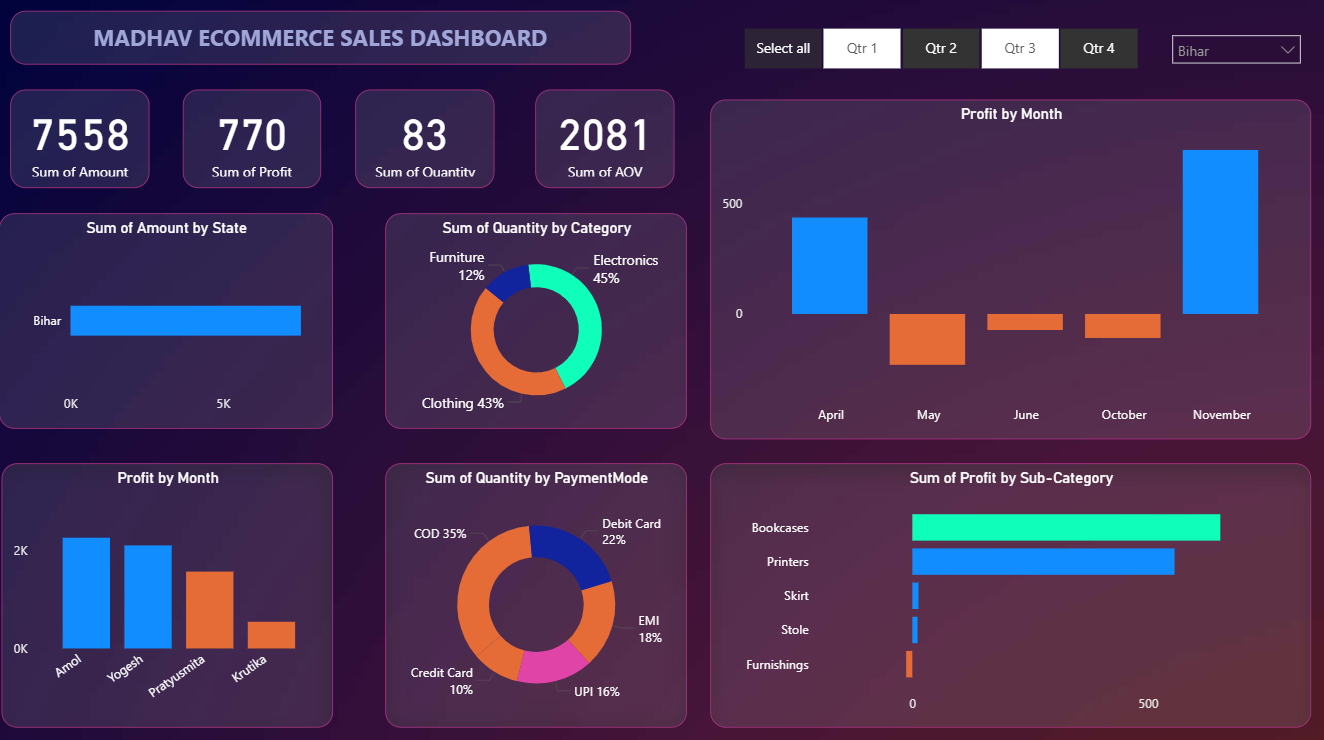

Layout of this report page (visuals, bound fields, positions):
{"tool":"powerbi","page":{"name":"Page 1","canvas":[1280,720],"ordinal":0},"visuals":[{"type":"textbox","box":[11.1,13.3,598.9,52.2],"z":0},{"type":"columnChart","title":" Profit by Month","fields":{"Y":["Sum(Details.Profit)"],"Category":["Orders.Order Date.Variation.Date Hierarchy.Month"]},"box":[686.7,98.9,580,327.8],"z":1000},{"type":"barChart","fields":{"Category":["Details.Sub-Category"],"Y":["Sum(Details.Profit)"]},"box":[686.7,450,580,255.6],"z":2000},{"type":"donutChart","fields":{"Y":["Sum(Details.Quantity)"],"Category":["Details.PaymentMode"]},"box":[372.2,450,291.1,255.6],"z":3000},{"type":"donutChart","fields":{"Y":["Sum(Details.Quantity)"],"Category":["Details.Category"]},"box":[372.2,208.9,291.1,207.8],"z":4000},{"type":"barChart","fields":{"Category":["Orders.State"],"Y":["Sum(Details.Amount)"]},"box":[0,208.9,322.2,207.8],"z":5000},{"type":"columnChart","title":" Profit by Month","fields":{"Category":["Orders.CustomerName"],"Y":["Sum(Details.Amount)"]},"box":[2.2,450,320,255.6],"z":6000},{"type":"card","fields":{"Values":["Sum(Details.Amount)"]},"box":[11.1,88.9,134.4,95.6],"z":7000},{"type":"card","fields":{"Values":["Sum(Details.Profit)"]},"box":[177.8,88.9,133.3,95.6],"z":8000},{"type":"card","fields":{"Values":["Sum(Details.Quantity)"]},"box":[343.3,88.9,134.4,95.6],"z":9000},{"type":"card","fields":{"Values":["Sum(Details.AOV)"]},"box":[517.8,88.9,134.4,95.6],"z":10000},{"type":"slicer","fields":{"Values":["Orders.Order Date.Variation.Date Hierarchy.Quarter"]},"box":[694.4,24.4,427.8,51.1],"z":11000},{"type":"slicer","fields":{"Values":["Orders.State"]},"box":[1122.2,26.7,144.4,46.7],"z":12000}]}

Visuals, with their boxes in screenshot pixels (x1, y1, x2, y2), scaled from the page's 1280x720 canvas onto the 1324x740 screenshot:
textbox: x1=11, y1=14, x2=631, y2=67
" Profit by Month" columnChart: x1=710, y1=102, x2=1310, y2=439
barChart - Details.Sub-Category x Sum(Details.Profit): x1=710, y1=462, x2=1310, y2=725
donutChart - Sum(Details.Quantity) x Details.PaymentMode: x1=385, y1=462, x2=686, y2=725
donutChart - Sum(Details.Quantity) x Details.Category: x1=385, y1=215, x2=686, y2=428
barChart - Orders.State x Sum(Details.Amount): x1=0, y1=215, x2=333, y2=428
" Profit by Month" columnChart: x1=2, y1=462, x2=333, y2=725
card - Sum(Details.Amount): x1=11, y1=91, x2=151, y2=190
card - Sum(Details.Profit): x1=184, y1=91, x2=322, y2=190
card - Sum(Details.Quantity): x1=355, y1=91, x2=494, y2=190
card - Sum(Details.AOV): x1=536, y1=91, x2=675, y2=190
slicer - Orders.Order Date.Variation.Date Hierarchy.Quarter: x1=718, y1=25, x2=1161, y2=78
slicer - Orders.State: x1=1161, y1=27, x2=1310, y2=75
